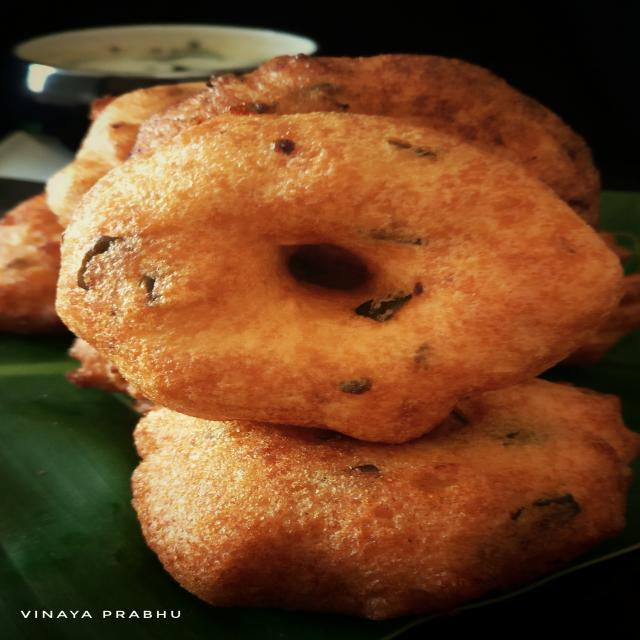Vada: (41, 53, 640, 615)
